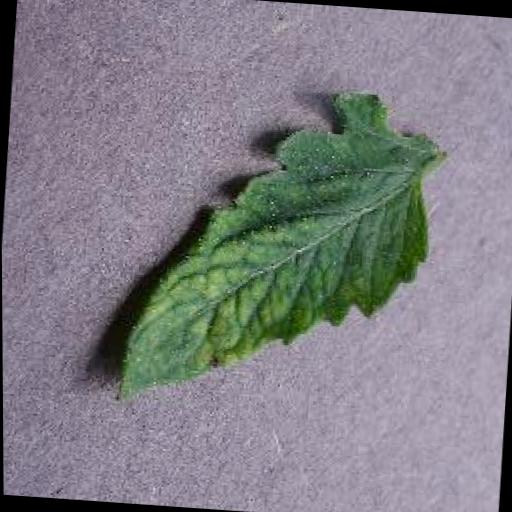Mosaic Virus: (111, 72, 445, 424)
